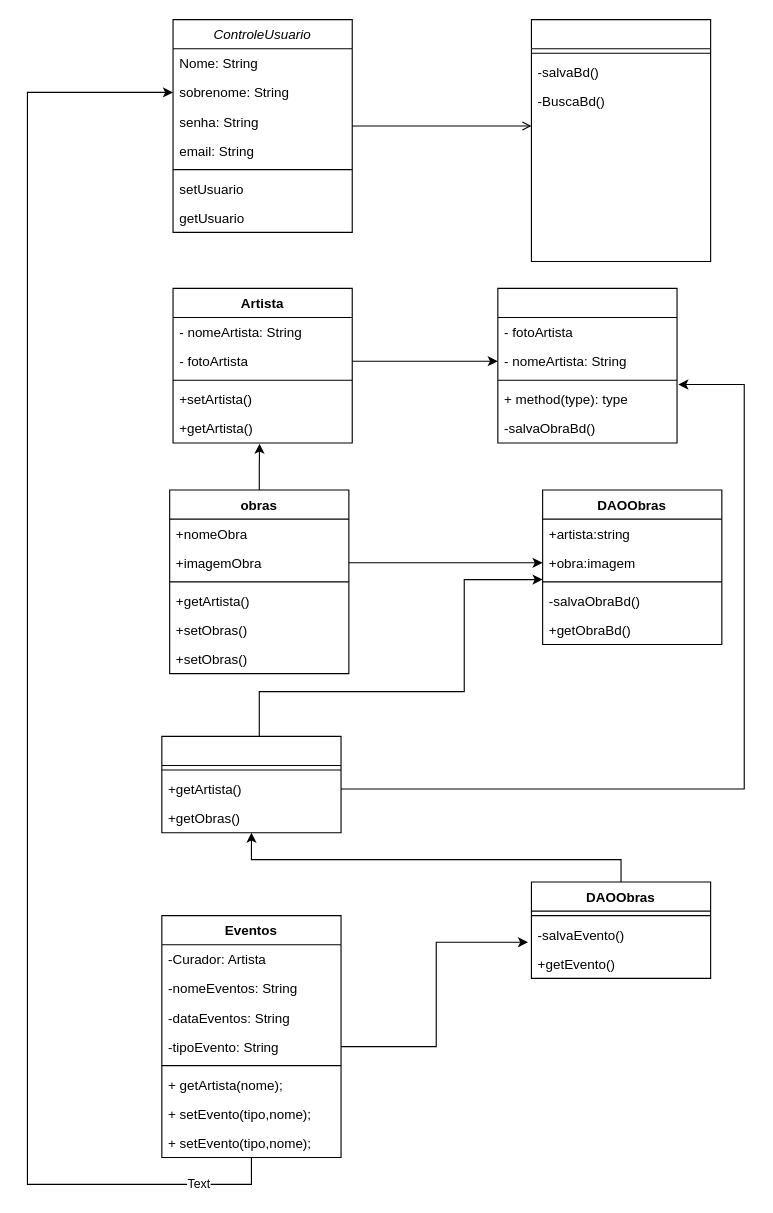
This 773x1213 diagram has some shape labels left out. Here are the shapes that lost their labels. From the top down, the box of each, then its label:
(530, 18, 711, 262): DAOusuario
(497, 287, 677, 443): DAOArtista
(161, 735, 341, 833): GaleriaArte
